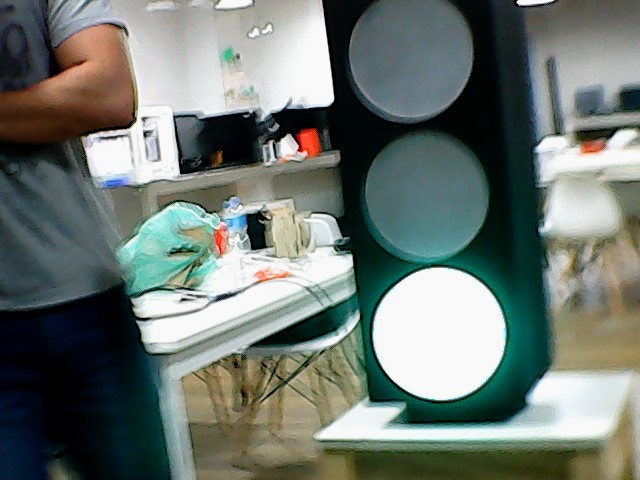verde: (311, 1, 581, 406)
